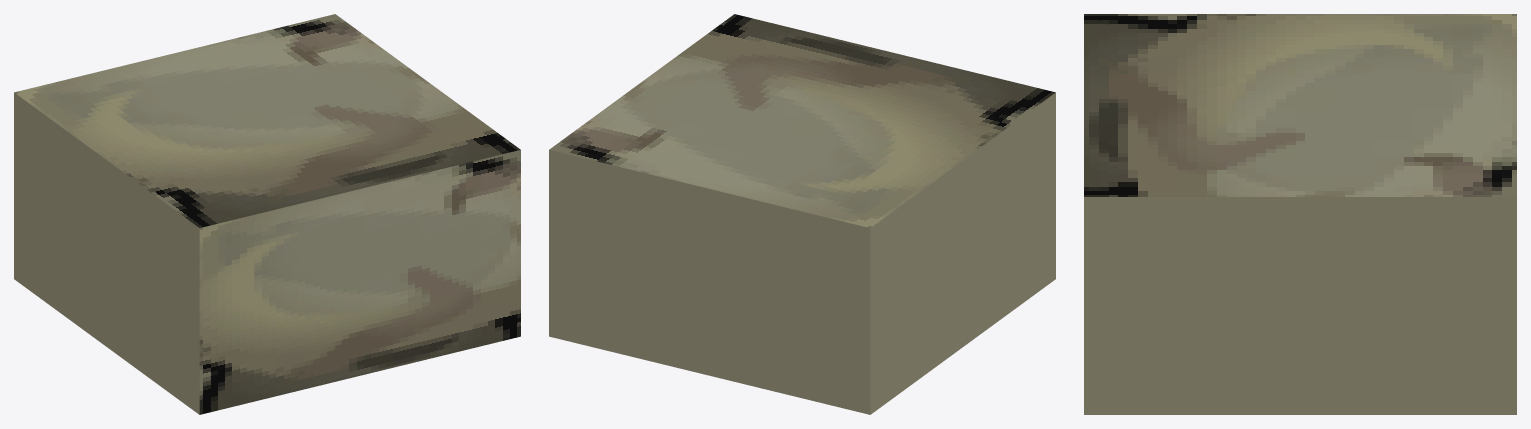
The model's file is Building_CocoonLocust.glb.
3 views of the same model, side by side, from view 1: azimuth 30°, elevation 25°; view 2: azimuth 150°, elevation 25°; view 3: azimuth 270°, elevation 25° (orthographic). The views are drawn at different scales.
Parts seen in each view (by area): view 1: CocoonLocust; view 2: CocoonLocust; view 3: CocoonLocust.
Part boxes in pixels (x1,y1,x2,y2): CocoonLocust: (14,14,520,414); CocoonLocust: (549,14,1055,414); CocoonLocust: (1084,14,1516,414).
Bounding box in the file's own units: 0.9 × 0.5 × 0.9.
1 material, 1 textured.
